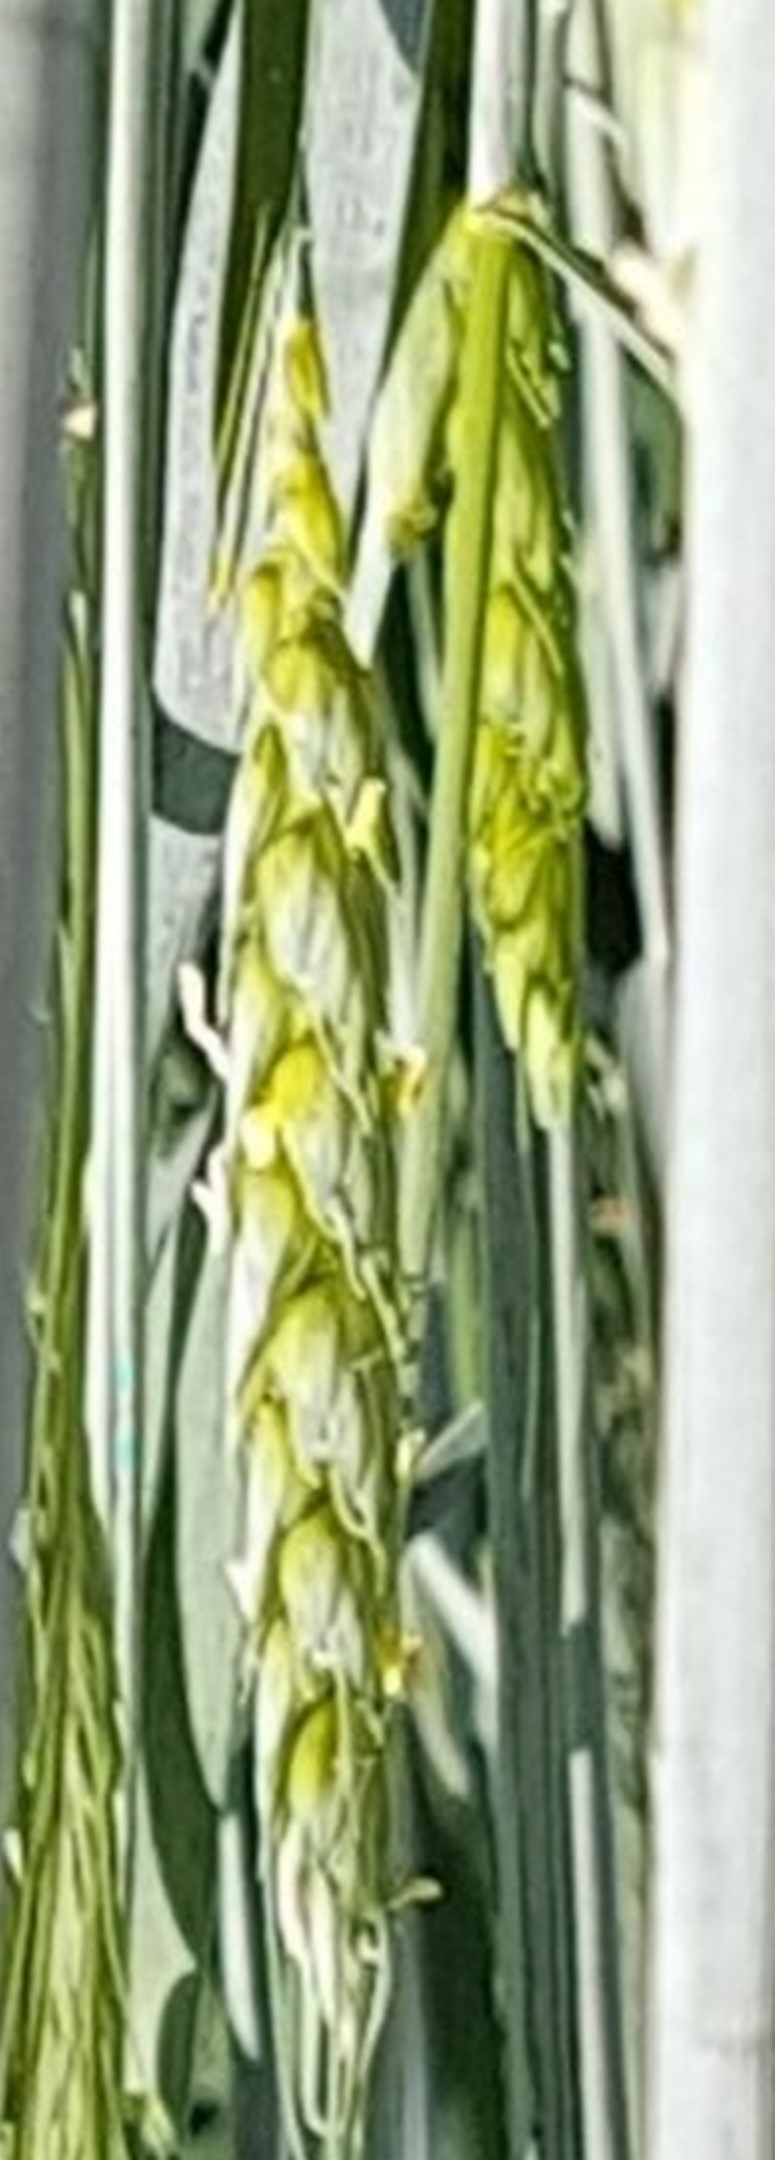Healthy Wheat: (173, 401, 480, 1996)
